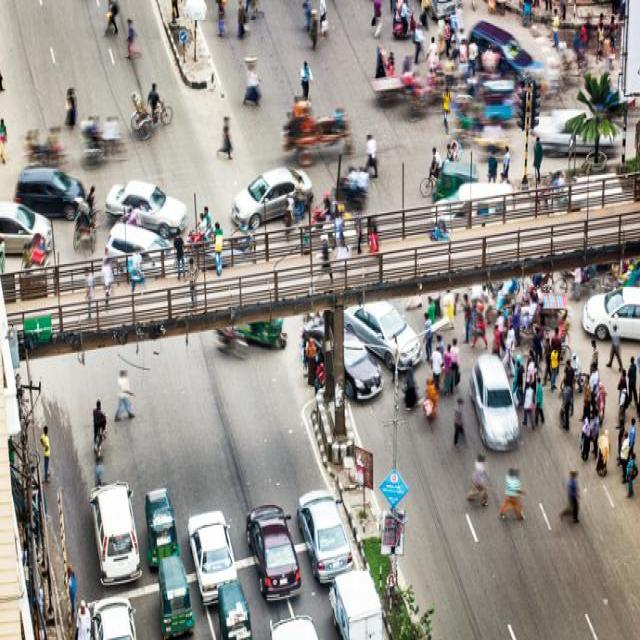car: (227, 163, 312, 227), (466, 347, 517, 451), (242, 500, 299, 588), (298, 485, 348, 571), (103, 176, 189, 218), (466, 15, 527, 71), (185, 507, 237, 572), (581, 285, 636, 344), (102, 220, 166, 267), (15, 166, 79, 213), (372, 298, 419, 359), (342, 332, 381, 398), (89, 588, 136, 635), (0, 199, 51, 235)
motorcycle: (156, 552, 193, 636), (78, 112, 130, 167), (143, 482, 180, 551), (129, 86, 172, 140), (525, 306, 572, 352), (216, 579, 251, 637), (401, 72, 439, 120), (19, 128, 72, 162), (69, 198, 99, 250), (252, 313, 288, 347), (210, 327, 249, 358), (442, 155, 478, 180), (558, 268, 599, 288), (449, 95, 470, 132), (29, 233, 47, 266), (445, 135, 460, 158)
truck: (85, 476, 141, 583), (326, 566, 381, 636)
